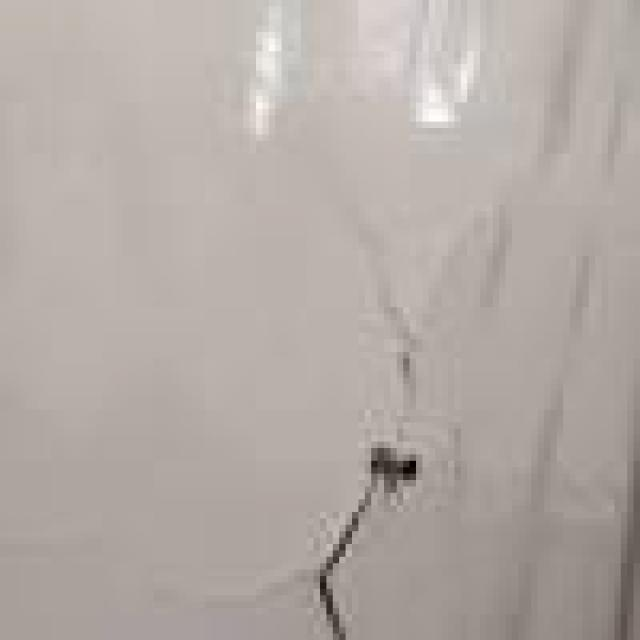Crack: (301, 435, 403, 634), (352, 218, 403, 371)
